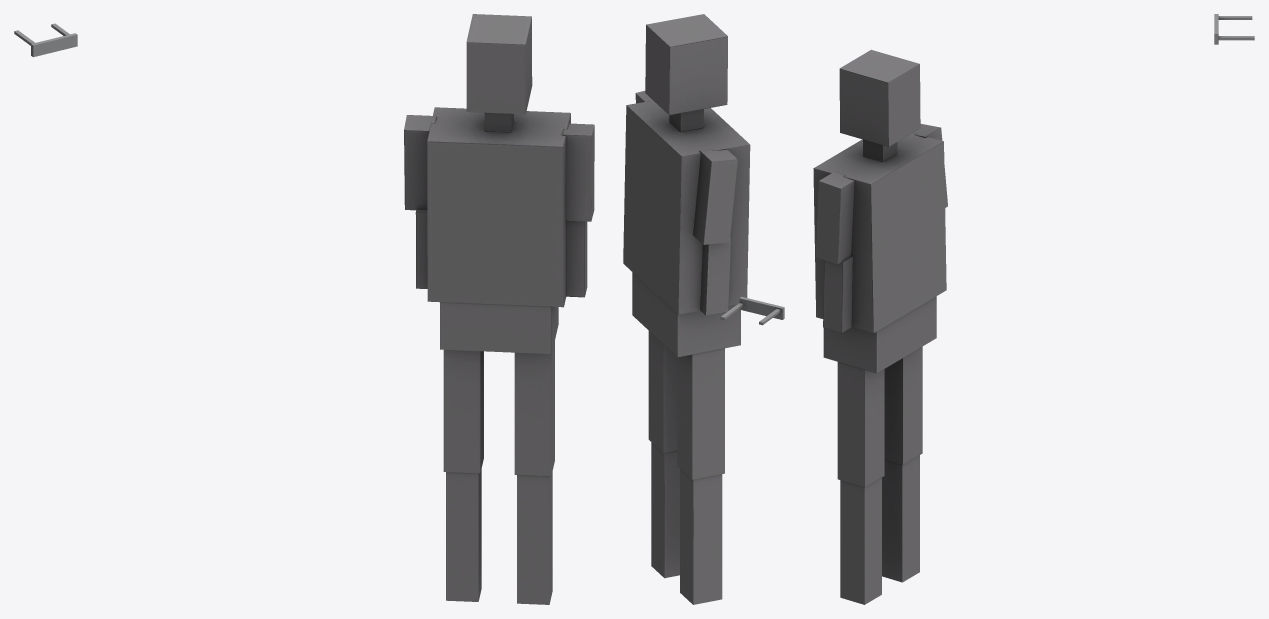
File: coda_spectacles.glb
3 renders of one model, left to right at view 1: azimuth 30°, elevation 25°; view 2: azimuth 150°, elevation 25°; view 3: azimuth 270°, elevation 25°, orthographic. The views are drawn at different scales.
Parts seen in each view (by area): view 1: CH_coda_spectacles_static; view 2: CH_coda_spectacles_static, coda_spectacles_frame; view 3: CH_coda_spectacles_static.
Part boxes in pixels (<box>): CH_coda_spectacles_static: <box>404,14,594,604</box>; CH_coda_spectacles_static: <box>623,14,750,604</box>; coda_spectacles_frame: <box>739,296,784,319</box>; CH_coda_spectacles_static: <box>813,49,947,604</box>.
Bounding box in the file's own units: 1.12 × 1.7 × 1.31.
Materials: 1 (1 with a texture image).
